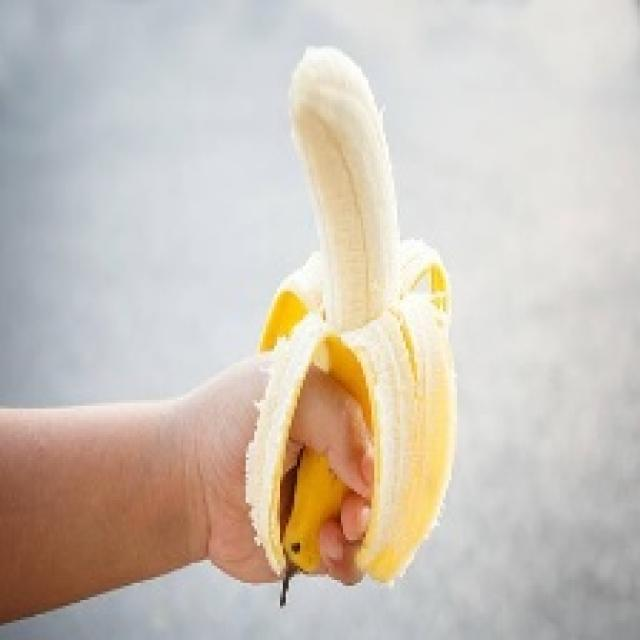Banana: (243, 43, 457, 594)
